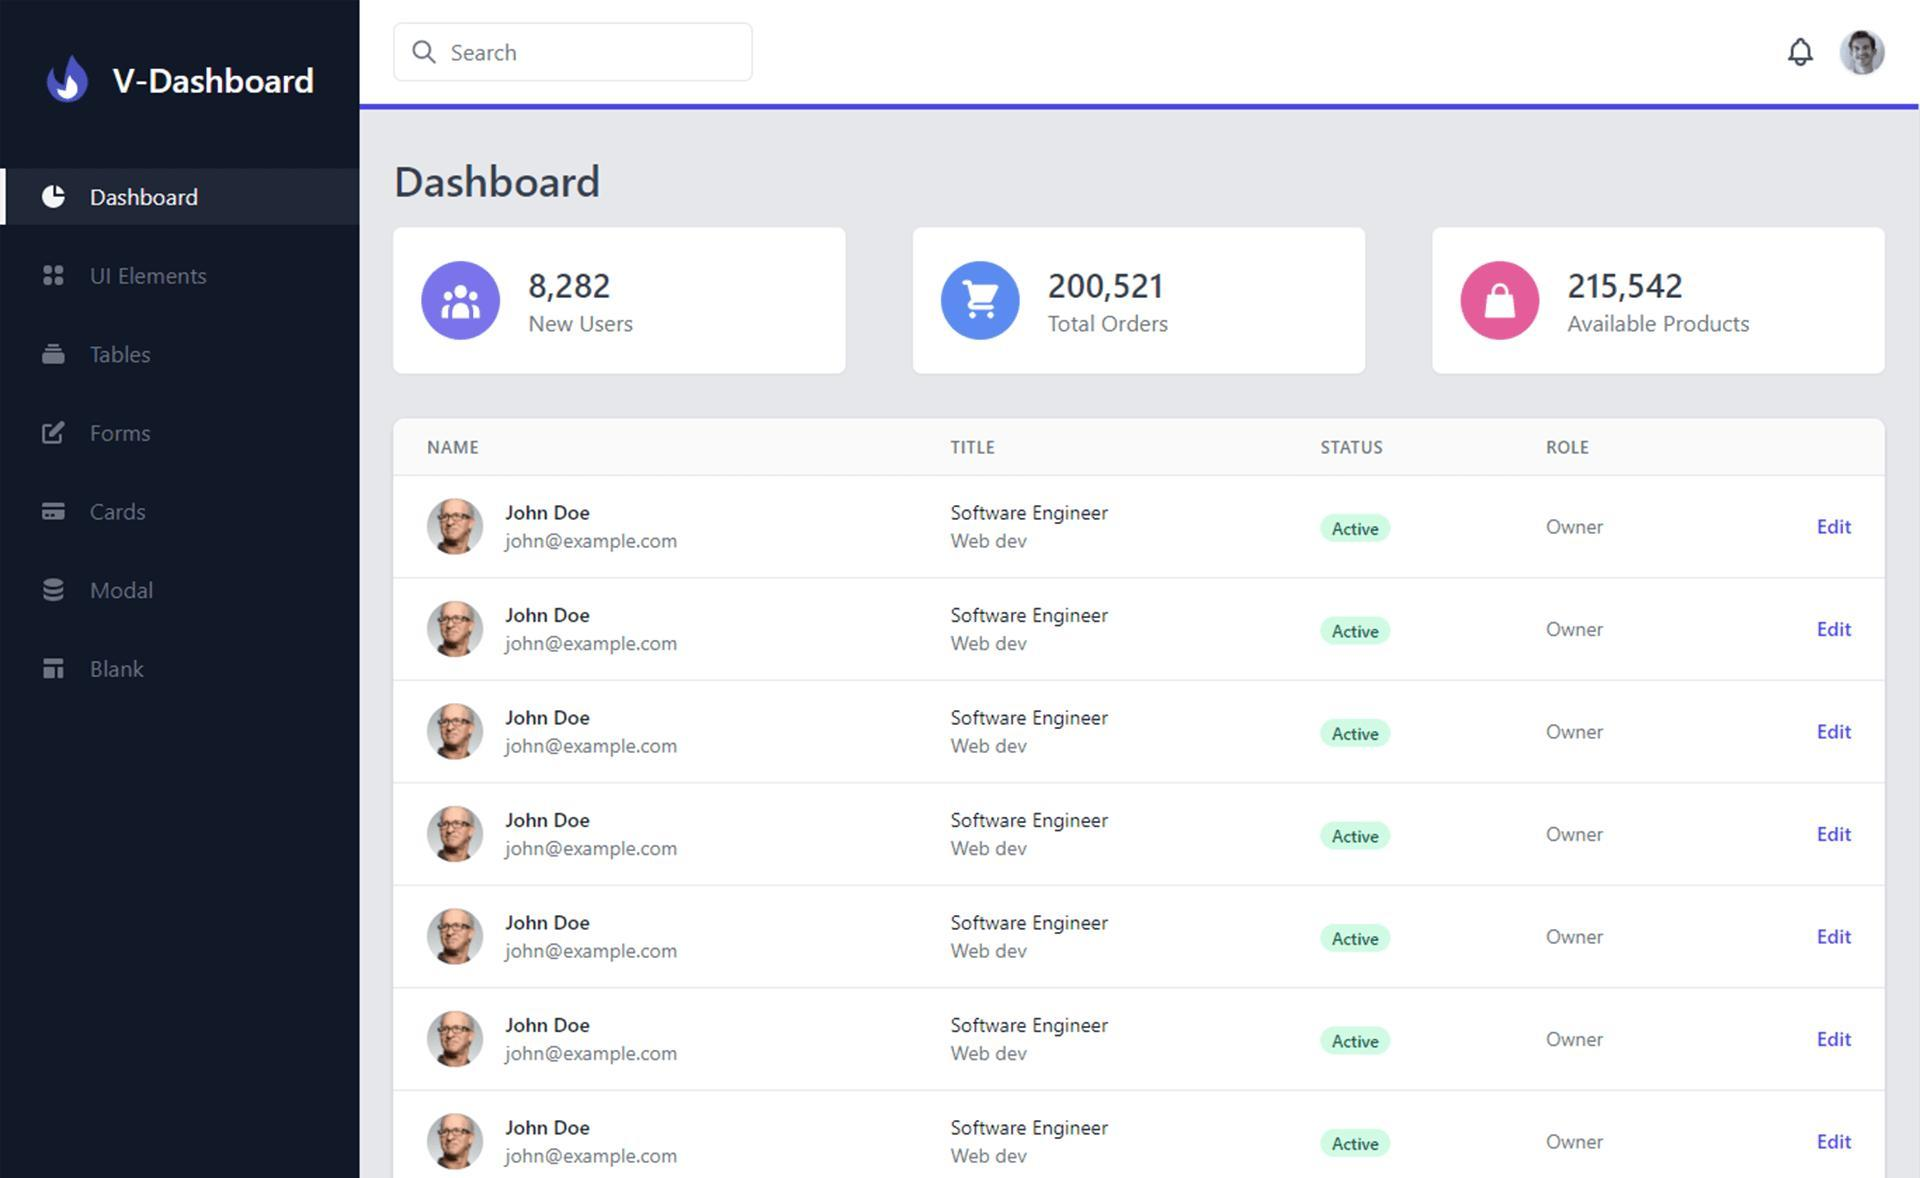icon: (433, 278, 492, 328), (955, 276, 1011, 324), (1478, 272, 1524, 328), (1788, 38, 1817, 69), (41, 184, 67, 213), (43, 420, 67, 448), (43, 265, 67, 289), (41, 343, 66, 368), (43, 577, 66, 603), (43, 657, 66, 683), (43, 502, 67, 524)
input: (394, 21, 756, 86)
label: (91, 266, 208, 289), (91, 580, 156, 603), (89, 346, 154, 368), (1319, 437, 1385, 458), (91, 501, 148, 524), (91, 658, 147, 682), (91, 425, 154, 444), (427, 437, 483, 458), (1546, 437, 1594, 458), (948, 437, 996, 457)
table: (389, 413, 1894, 1174)
